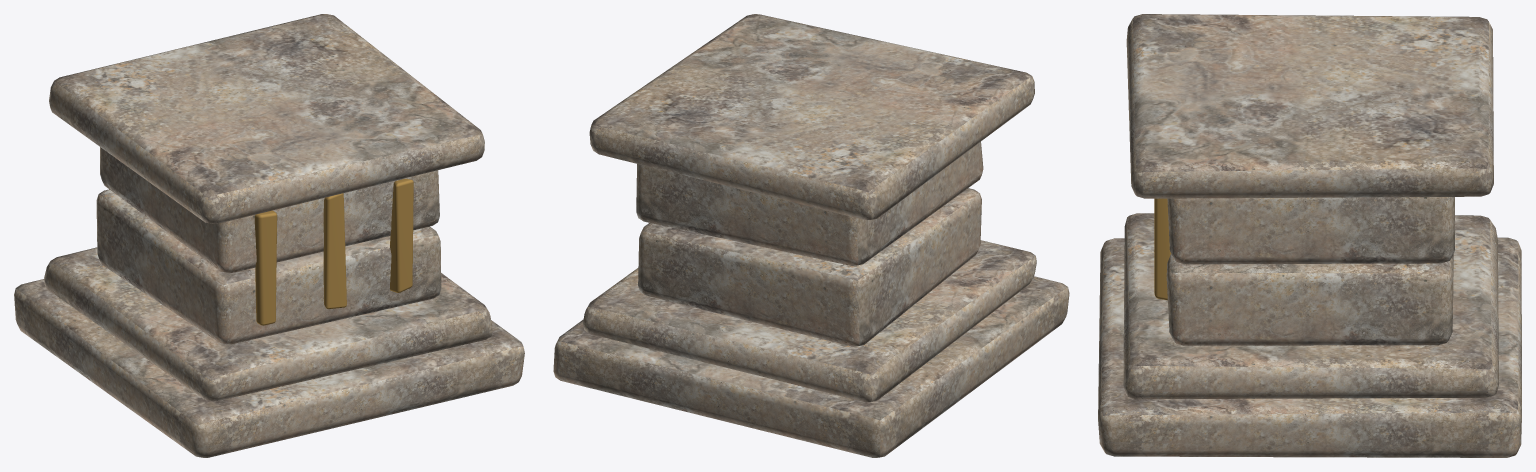
File: ruined_plinth.glb
3 views of the same model, side by side, from view 1: azimuth 30°, elevation 25°; view 2: azimuth 150°, elevation 25°; view 3: azimuth 270°, elevation 25° (orthographic). The views are drawn at different scales.
Visible parts, largest first — view 1: Worn masonry; view 2: Worn masonry; view 3: Worn masonry.
Boxes of the visible parts, <box> form: Worn masonry: <box>14,14,524,457</box>; Worn masonry: <box>553,14,1069,457</box>; Worn masonry: <box>1098,14,1521,457</box>.
Size of the model in its own units: 2.46 by 1.83 by 2.44.
Materials: 2 (1 with a texture image).
